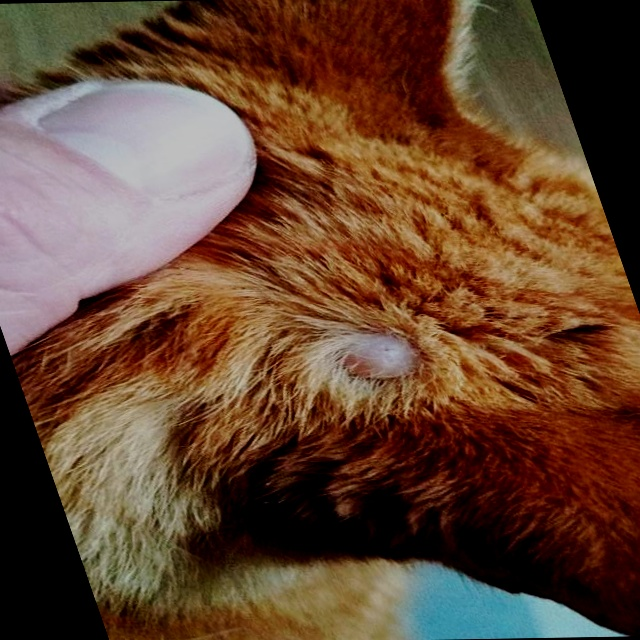lump_and_bump: (323, 328, 433, 390)
